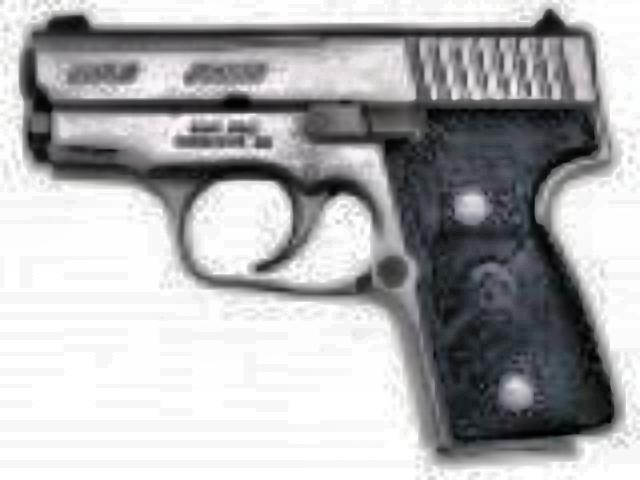pistol: (24, 8, 616, 456)
